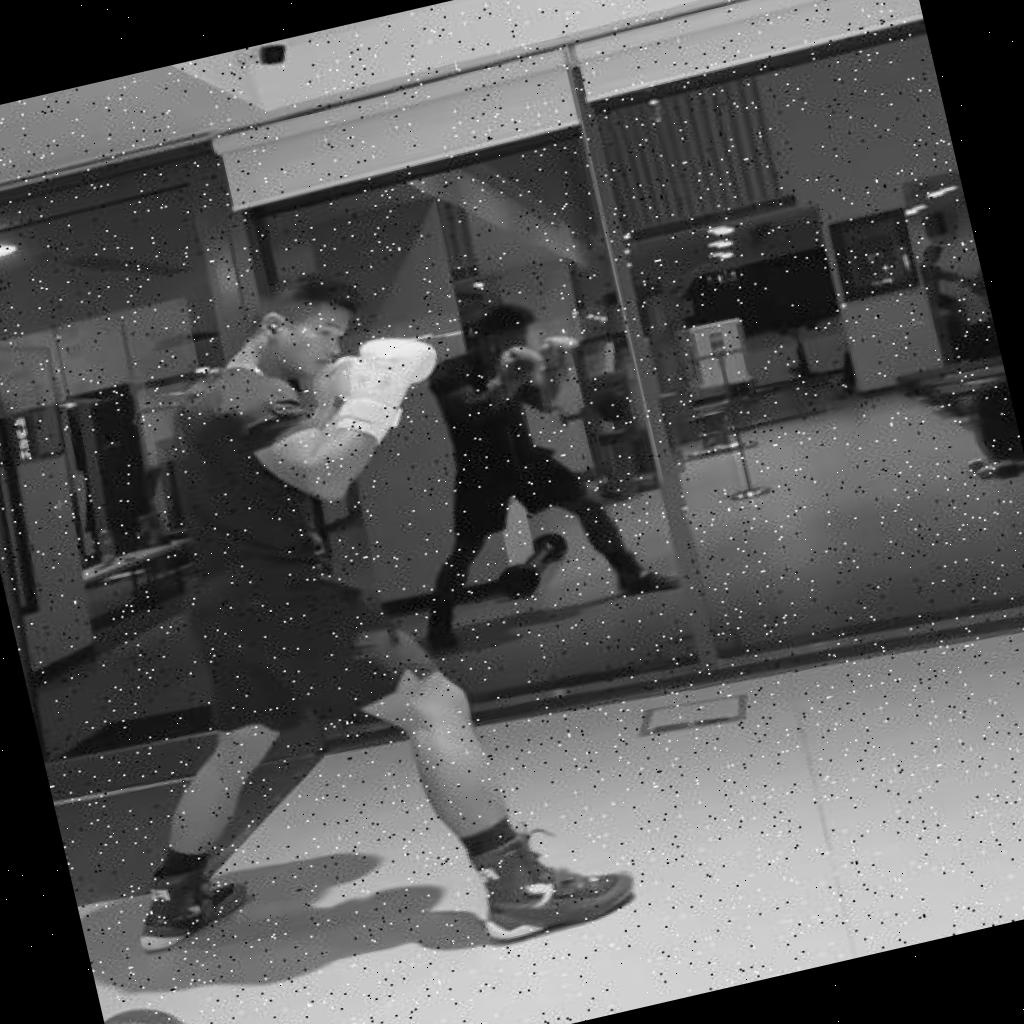no punch: (0, 230, 651, 1024)
